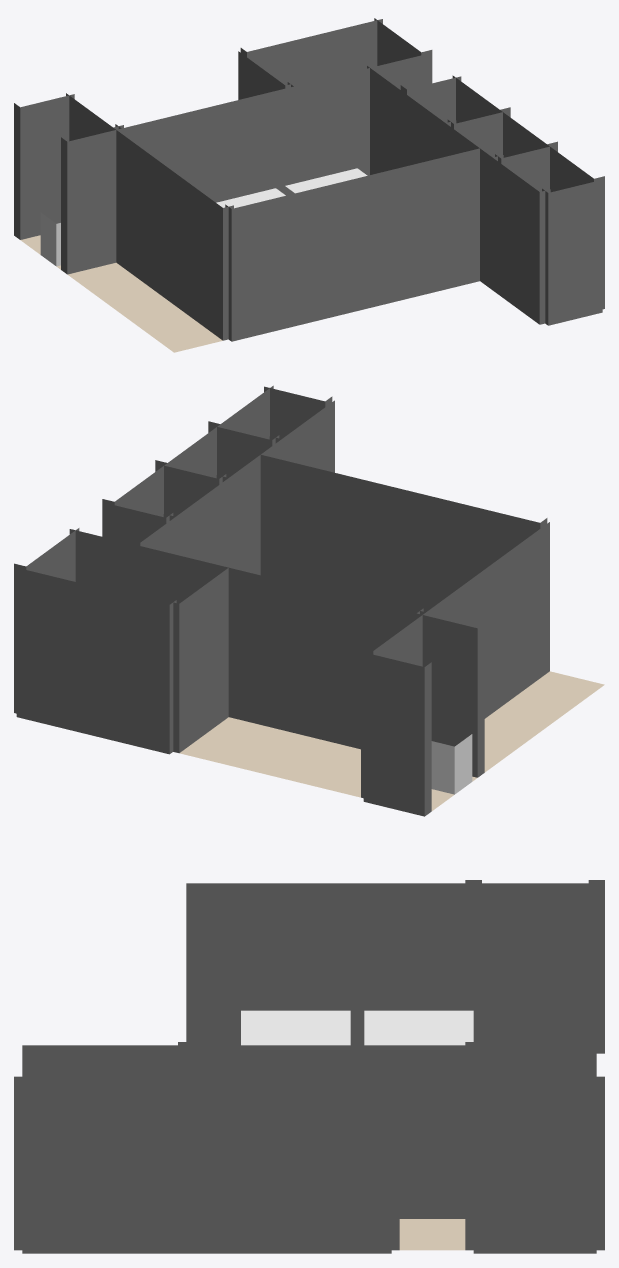
3 views of the same model, one above another, from view 1: azimuth 30°, elevation 25°; view 2: azimuth 150°, elevation 25°; view 3: azimuth 270°, elevation 25° (orthographic). The views are drawn at different scales.
Visible parts, largest first — view 1: wall_dining_hall_3, wall_dining_hall_1, wall_dining_hall_4, wall_kitchen_3, wall_private_3_3, wall_entrance_3, wall_private_3_4, wall_entrance_1, wall_dining_hall_2, floor, wall_kitchen_1, wall_private_2_4 (+13 smaller); view 2: wall_dining_hall_3, wall_dining_hall_1, wall_kitchen_1, floor, wall_dining_hall_4, wall_entrance_1, wall_kitchen_4, wall_entrance_3, wall_dining_hall_2, wall_kitchen_3, wall_private_3_4, wall_private_1_4 (+10 smaller); view 3: wall_dining_hall_4, wall_private_1_2, wall_private_2_2, wall_private_3_2, wall_kitchen_2, wall_dining_hall_2, wall_entrance_2, wall_kitchen_4, wall_private_3_4, table_4, table_1, wall_private_2_4 (+7 smaller).
Part boxes in pixels (left/top/right/bottom): wall_dining_hall_3: left=225, top=147, right=485, bottom=341; wall_dining_hall_1: left=115, top=67, right=375, bottom=202; wall_dining_hall_4: left=113, top=128, right=233, bottom=340; wall_kitchen_3: left=287, top=53, right=429, bottom=183; wall_private_3_3: left=542, top=180, right=602, bottom=325; wall_entrance_3: left=61, top=128, right=121, bottom=274; wall_private_3_4: left=492, top=158, right=550, bottom=324; wall_entrance_1: left=14, top=94, right=74, bottom=239; wall_dining_hall_2: left=367, top=66, right=487, bottom=174; floor: left=20, top=235, right=222, bottom=352; wall_kitchen_1: left=240, top=19, right=382, bottom=85; wall_private_2_4: left=477, top=146, right=503, bottom=289; wall_dining_hall_3: left=254, top=453, right=547, bottom=612; wall_dining_hall_1: left=130, top=544, right=423, bottom=749; wall_kitchen_1: left=16, top=567, right=176, bottom=754; floor: left=180, top=671, right=604, bottom=810; wall_dining_hall_4: left=414, top=522, right=549, bottom=718; wall_entrance_1: left=363, top=652, right=431, bottom=816; wall_kitchen_4: left=167, top=565, right=232, bottom=753; wall_entrance_3: left=416, top=613, right=484, bottom=777; wall_dining_hall_2: left=128, top=452, right=264, bottom=575; wall_kitchen_3: left=69, top=529, right=229, bottom=603; wall_private_3_4: left=269, top=400, right=334, bottom=472; wall_private_1_4: left=163, top=486, right=224, bottom=565; wall_dining_hall_4: left=186, top=883, right=473, bottom=1045; wall_private_1_2: left=268, top=1080, right=391, bottom=1253; wall_private_2_2: left=145, top=1080, right=268, bottom=1253; wall_private_3_2: left=22, top=1080, right=145, bottom=1253; wall_kitchen_2: left=473, top=1080, right=596, bottom=1253; wall_dining_hall_2: left=186, top=1045, right=473, bottom=1218; wall_entrance_2: left=473, top=883, right=596, bottom=993; wall_kitchen_4: left=473, top=993, right=596, bottom=1079; wall_private_3_4: left=22, top=1045, right=145, bottom=1079; table_4: left=241, top=1010, right=350, bottom=1045; table_1: left=364, top=1010, right=473, bottom=1045; wall_private_2_4: left=145, top=1045, right=268, bottom=1079.
Size of the model in its own units: 8.12 by 2.8 by 8.64.
